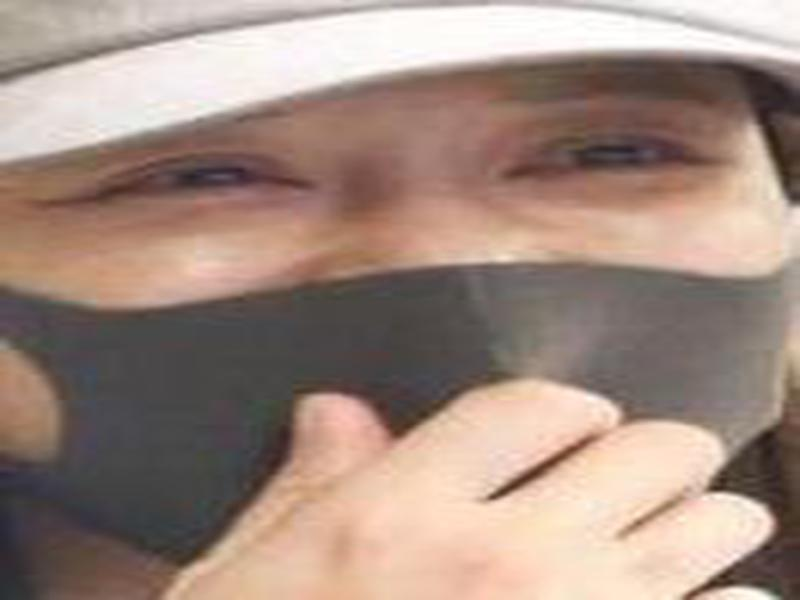with_mask: (1, 62, 796, 580)
